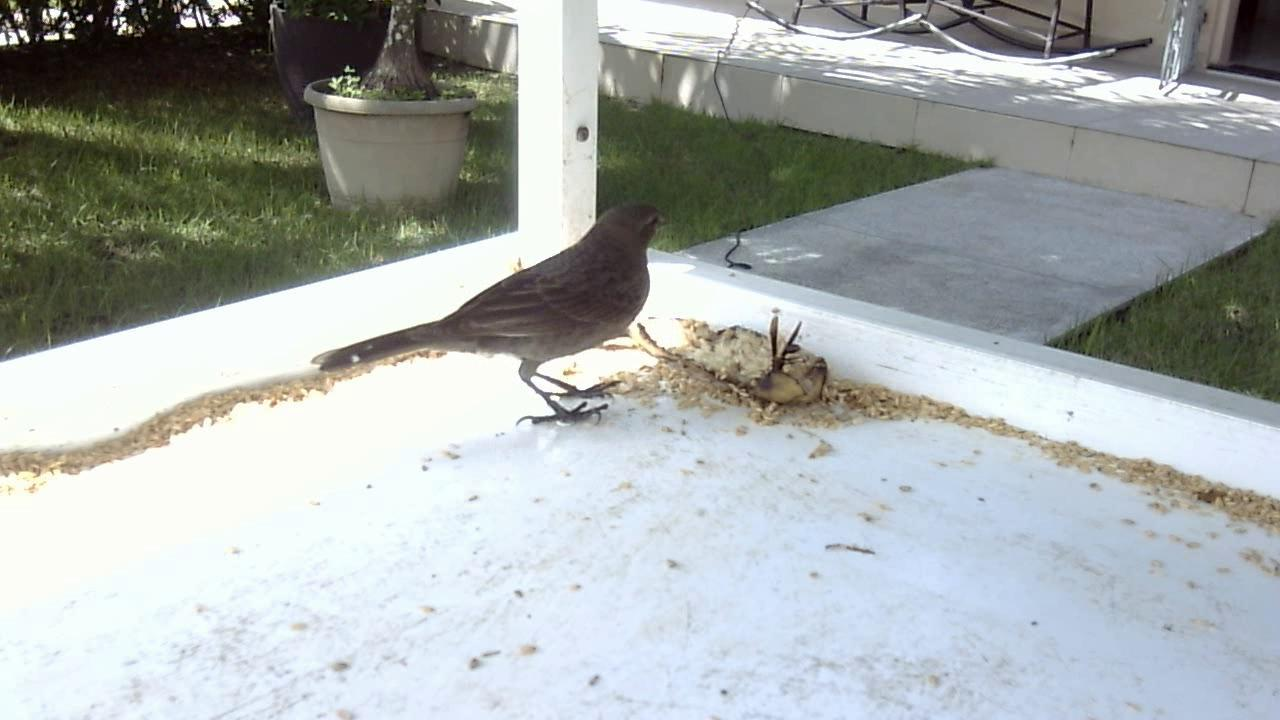chupim: (315, 198, 674, 439)
